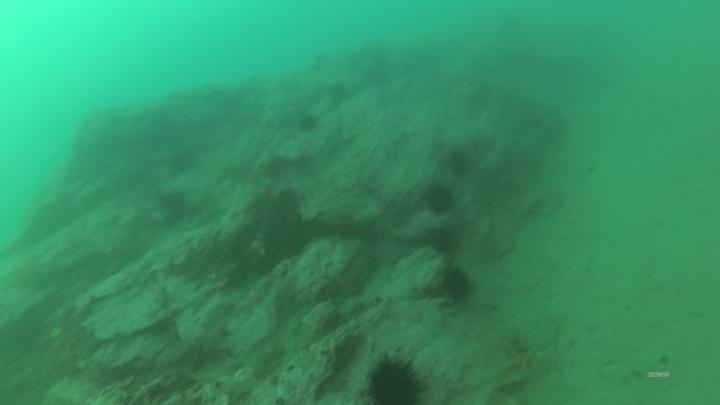echinus: (362, 351, 427, 405), (437, 264, 476, 306), (421, 180, 457, 217), (425, 224, 461, 258), (165, 147, 199, 178), (443, 146, 475, 178), (295, 111, 322, 136)
